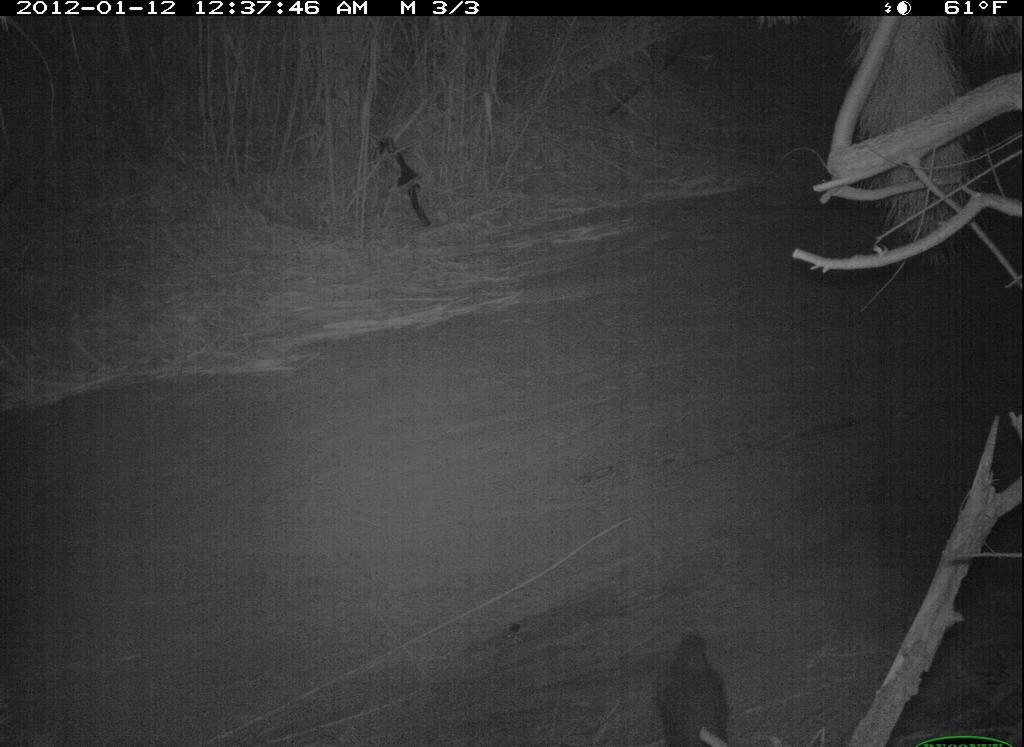raccoon: (649, 621, 737, 739)
